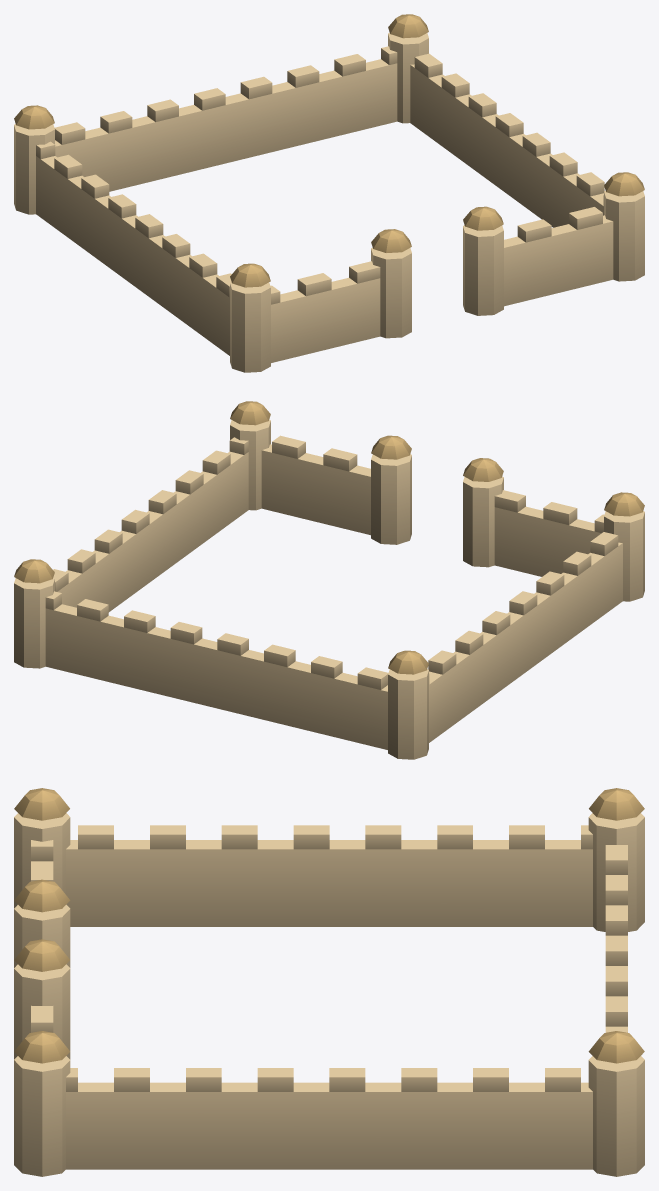
File: wall_MA_2.glb
3 renders of one model, top to bottom at view 1: azimuth 30°, elevation 25°; view 2: azimuth 150°, elevation 25°; view 3: azimuth 270°, elevation 25°, orthographic. The views are drawn at different scales.
Parts seen in each view (by area): view 1: Body; view 2: Body; view 3: Body.
Boxes of the visible parts, x1,y1,x2,y2 form: Body: (14, 14, 644, 372); Body: (14, 401, 644, 759); Body: (14, 788, 644, 1176).
Bounding box in the file's own units: 6.26 × 1.44 × 6.26.
1 material, 1 textured.
